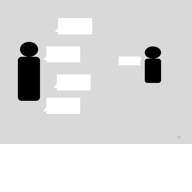left_oneway: (52, 14, 95, 39), (40, 42, 83, 65), (41, 95, 84, 116), (51, 72, 93, 92)
right_oneway: (116, 52, 144, 67)
